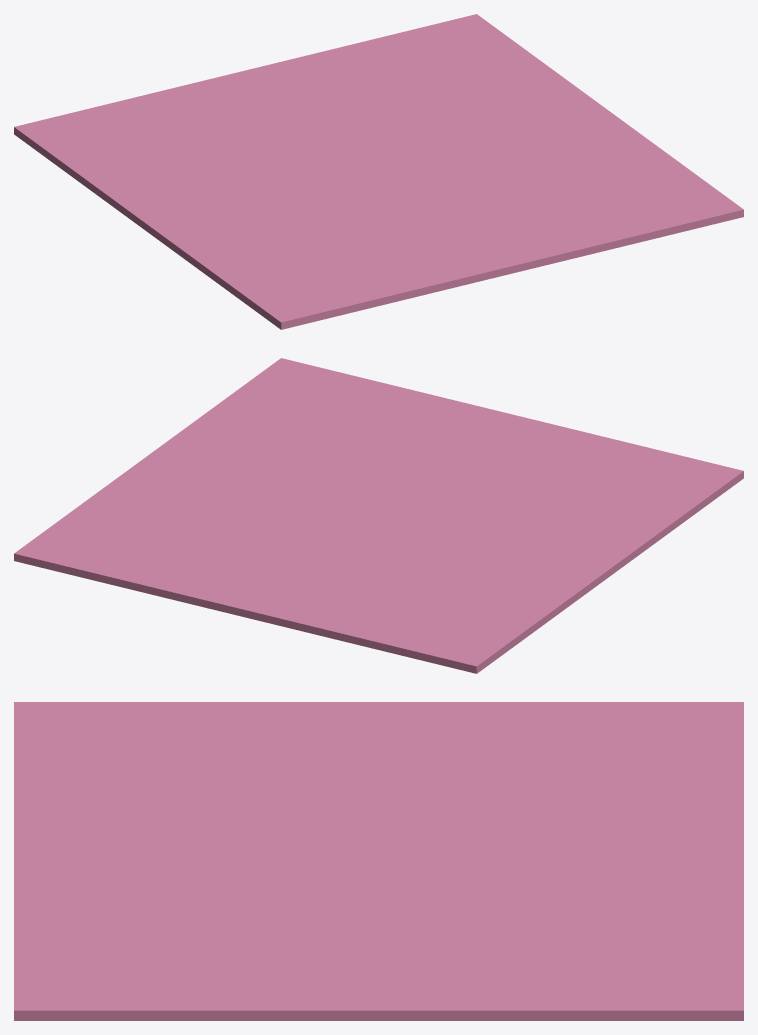
The model's file is ind_concretefloor_01.dae.
3 views of the same model, one above another, from view 1: azimuth 30°, elevation 25°; view 2: azimuth 150°, elevation 25°; view 3: azimuth 270°, elevation 25° (orthographic). The views are drawn at different scales.
Visible parts, largest first — view 1: Untitled; view 2: Untitled; view 3: Untitled.
Boxes of the visible parts, box(x1,y1,x2,y2) form: Untitled: box(14, 14, 743, 329); Untitled: box(14, 358, 743, 673); Untitled: box(14, 702, 743, 1020).
Bounding box in the file's own units: 27.23 × 27.23 × 0.4186.
